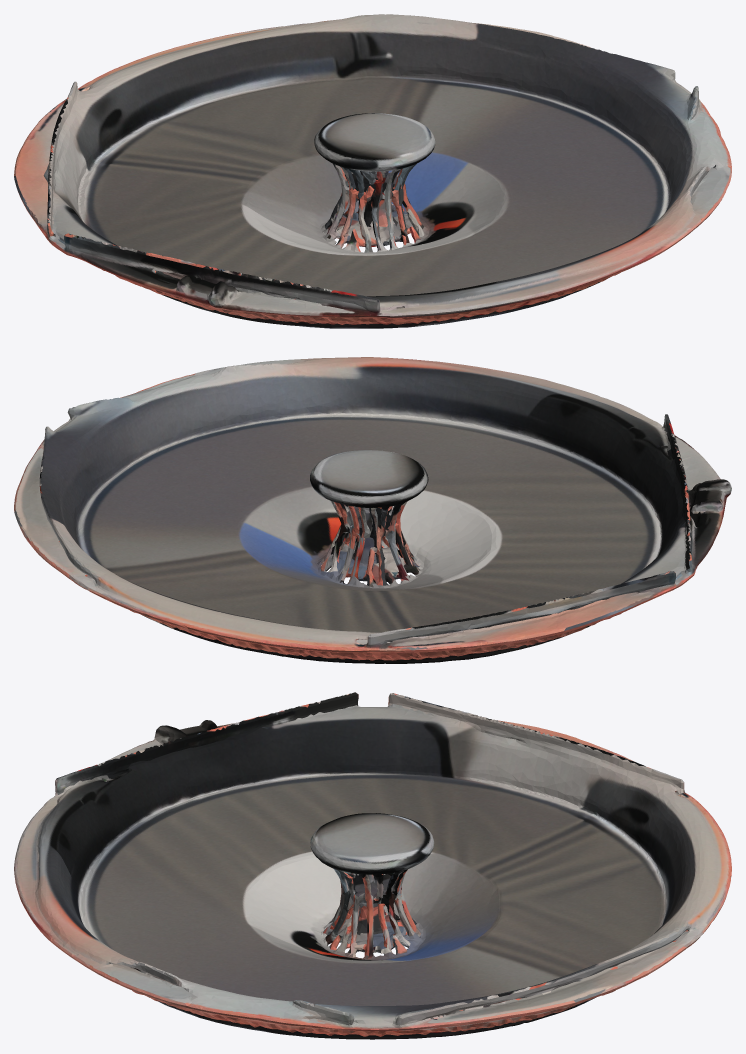
File: image_0001_segmented.glb
3 views of the same model, one above another, from view 1: azimuth 30°, elevation 25°; view 2: azimuth 150°, elevation 25°; view 3: azimuth 270°, elevation 25° (orthographic). The views are drawn at different scales.
Parts seen in each view (by area): view 1: tmp1xob99l6.ply; view 2: tmp1xob99l6.ply; view 3: tmp1xob99l6.ply.
Part boxes in pixels (bbox=[...]): tmp1xob99l6.ply: bbox=[14, 14, 731, 328]; tmp1xob99l6.ply: bbox=[14, 357, 731, 663]; tmp1xob99l6.ply: bbox=[14, 692, 731, 1039].
Size of the model in its own units: 1.99 by 0.3113 by 1.88.
1 material, 1 textured.
